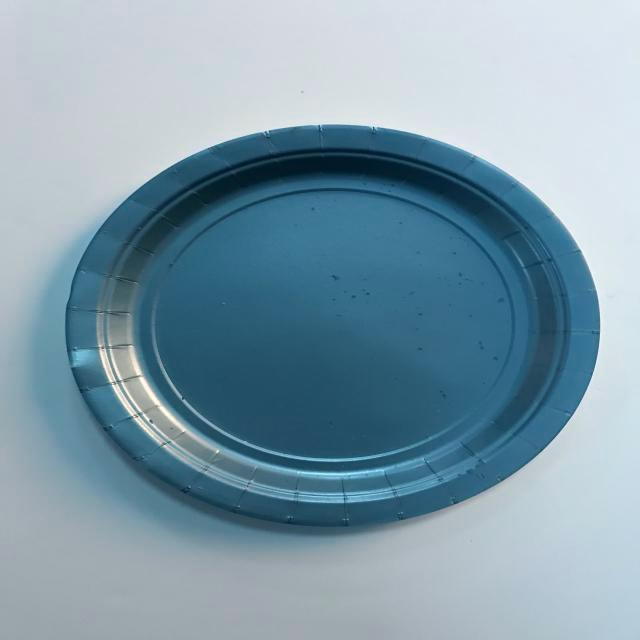paper: (67, 106, 607, 538)
